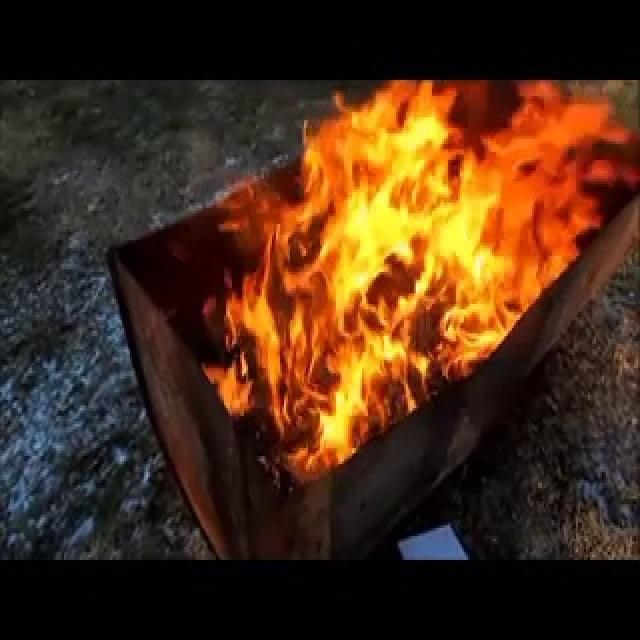fire: (209, 85, 593, 488)
